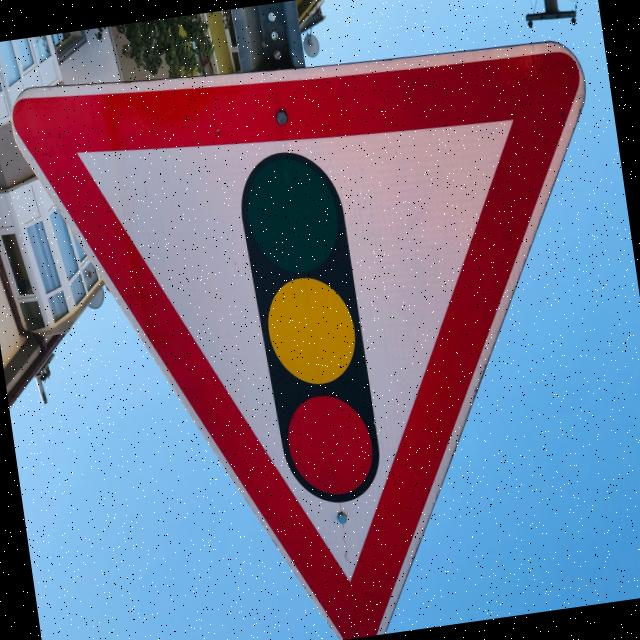light_traffic: (0, 6, 640, 640)
